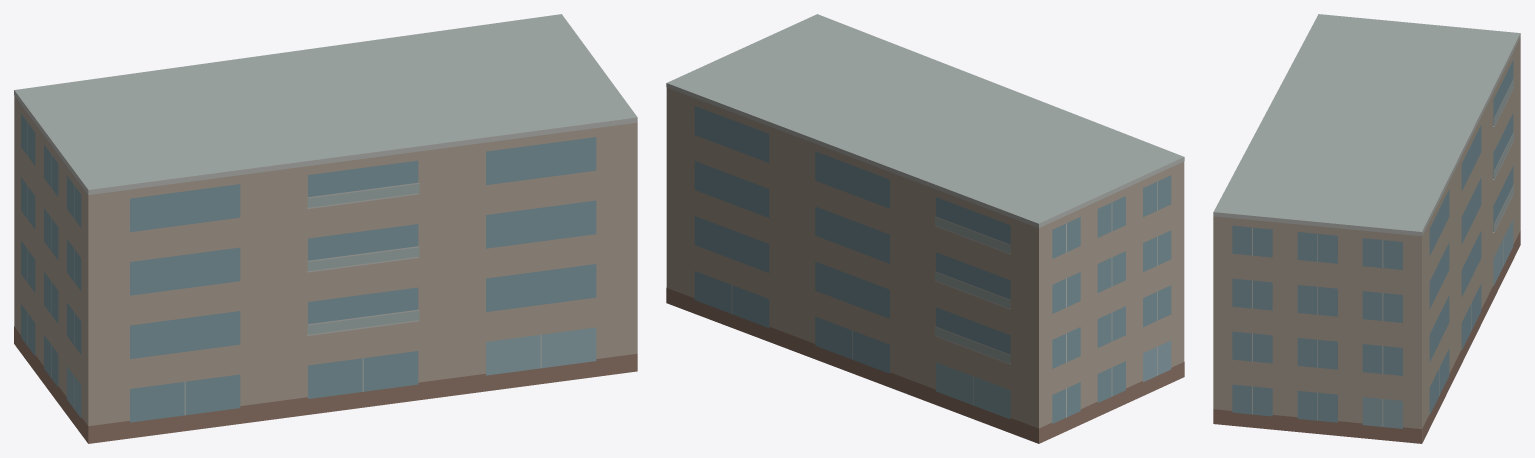
File: survey-upis-32943980.glb
3 renders of one model, left to right at view 1: azimuth 30°, elevation 25°; view 2: azimuth 150°, elevation 25°; view 3: azimuth 270°, elevation 25°, orthographic. The views are drawn at different scales.
Visible parts, largest first — view 1: survey-upis-32943980.tmp; view 2: survey-upis-32943980.tmp; view 3: survey-upis-32943980.tmp.
Part boxes in pixels (box(x1,y1,x2,y2)): survey-upis-32943980.tmp: box(14, 14, 637, 443); survey-upis-32943980.tmp: box(666, 14, 1184, 443); survey-upis-32943980.tmp: box(1213, 14, 1520, 443).
Size of the model in its own units: 26.82 by 12.15 by 15.98.
